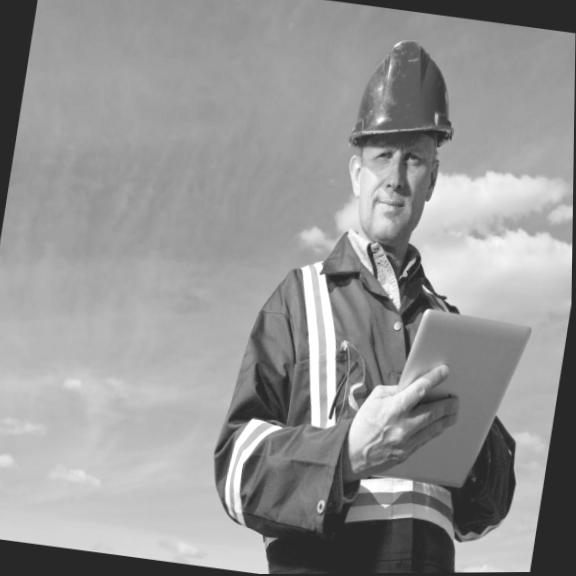no_safety_vest: (232, 242, 504, 559)
